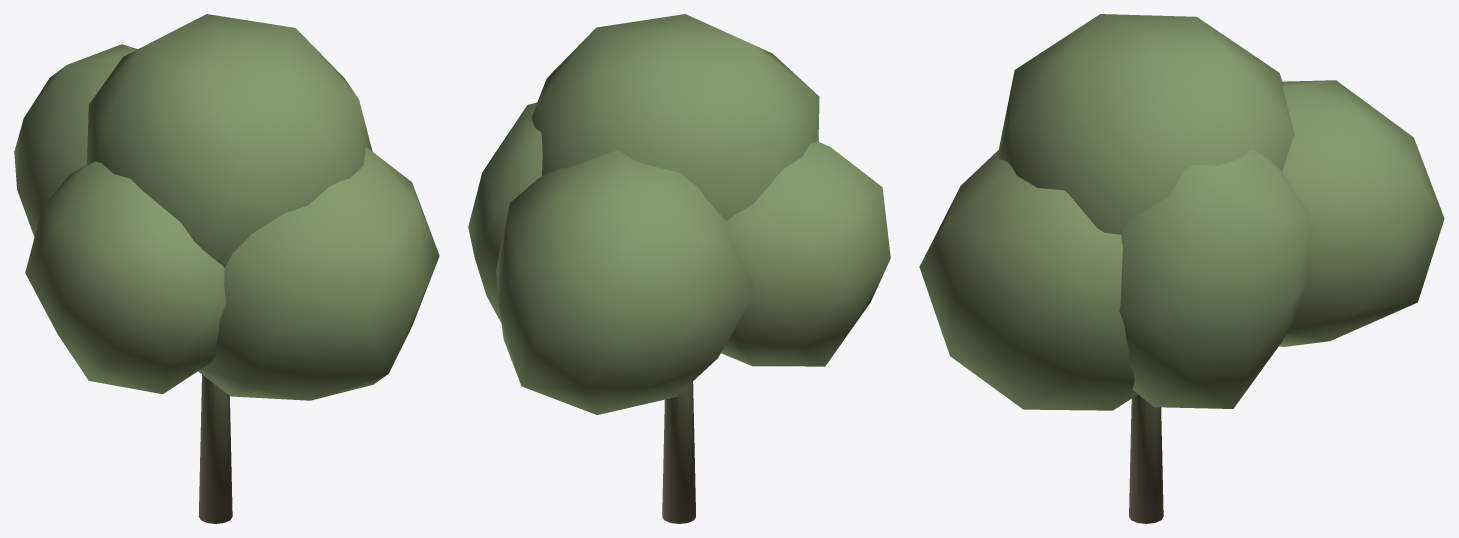
The model's file is maple_a.glb.
The picture shows the model from 3 angles, left to right: view 1: azimuth 30°, elevation 25°; view 2: azimuth 150°, elevation 25°; view 3: azimuth 270°, elevation 25°; orthographic projection. The views are drawn at different scales.
Visible parts, largest first — view 1: maple_a; view 2: maple_a; view 3: maple_a.
Boxes of the visible parts, x1,y1,x2,y2 form: maple_a: (14, 14, 439, 523); maple_a: (468, 14, 890, 523); maple_a: (919, 14, 1444, 523).
Bounding box in the file's own units: 2.45 × 3.1 × 3.03.
